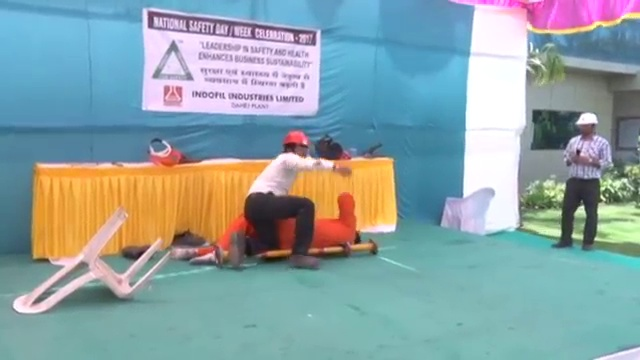helmet: (281, 130, 311, 149), (574, 111, 600, 126)
helmet_on: (280, 130, 311, 159), (573, 111, 599, 137)
person: (228, 129, 325, 273), (171, 194, 363, 256), (553, 112, 612, 252)
